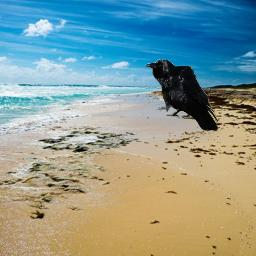Crow: (145, 59, 219, 132)
